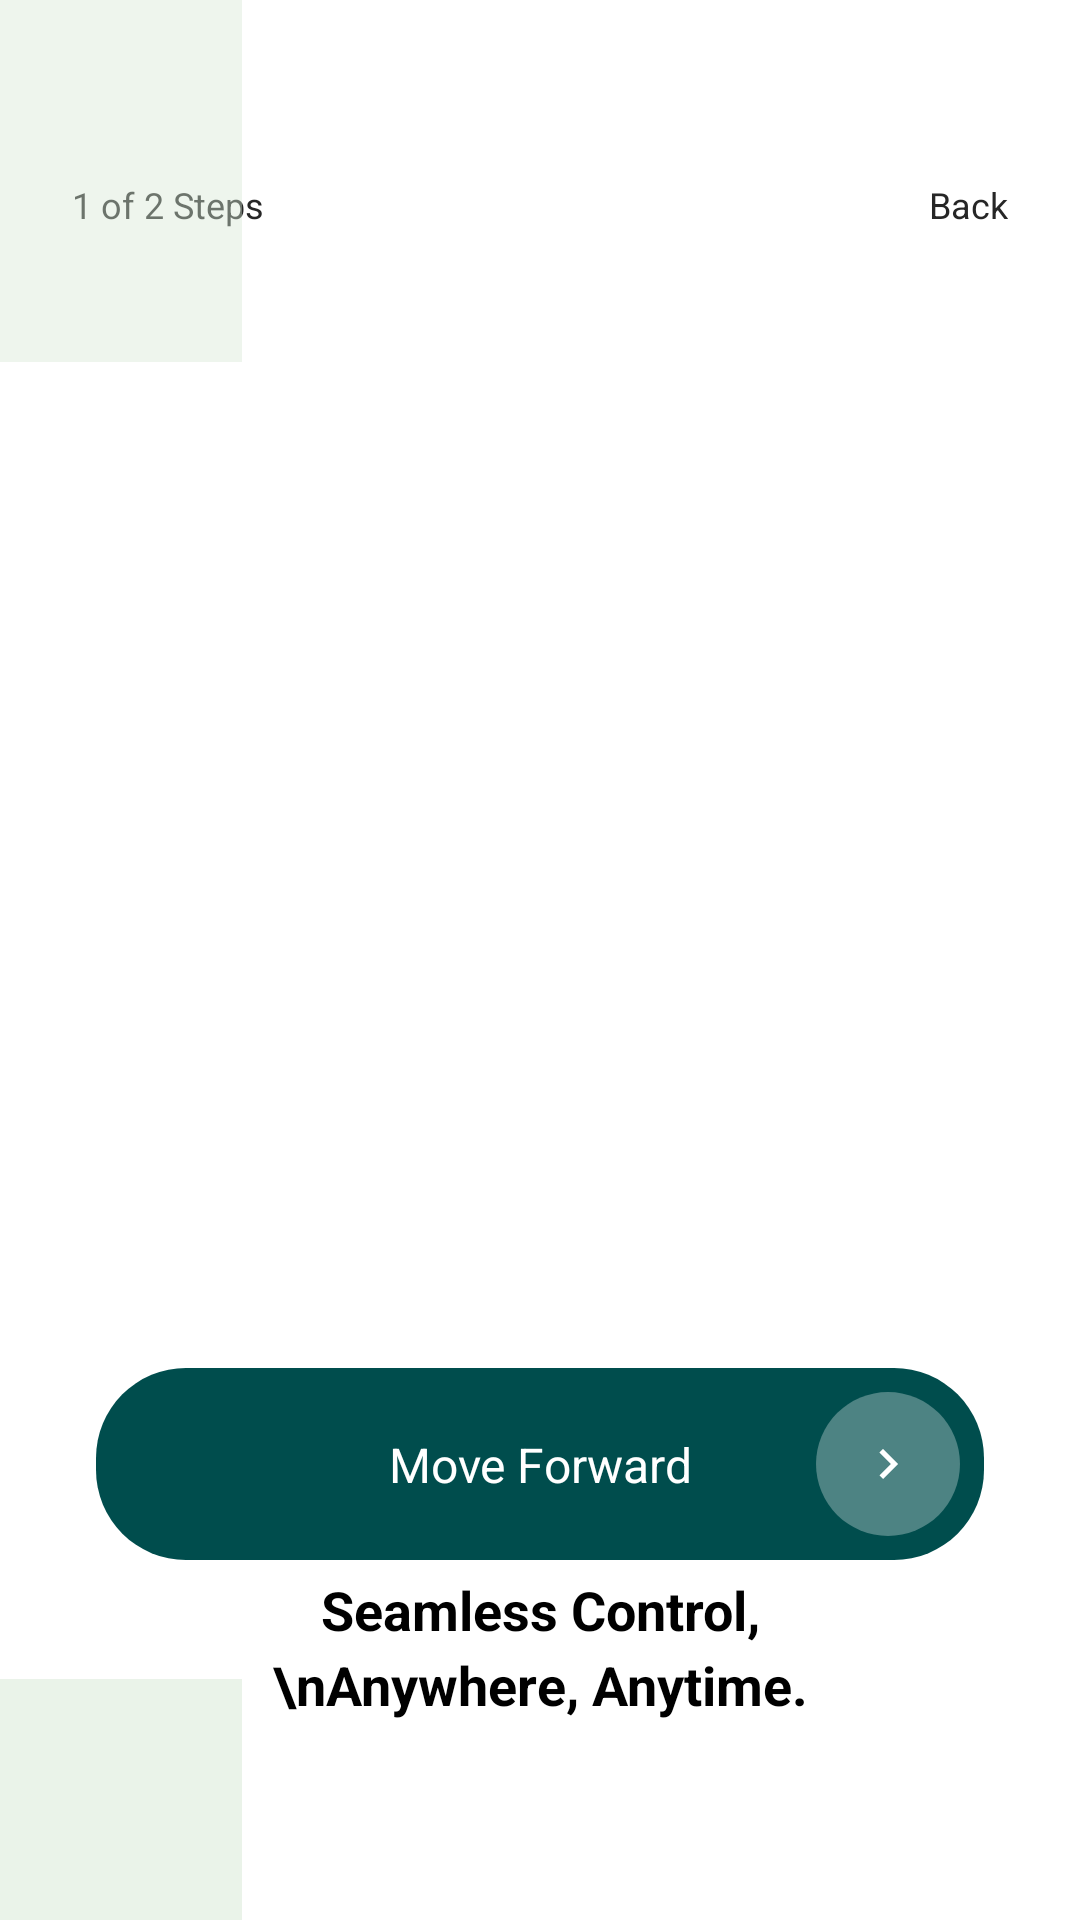

Named icons in this screenshot (1080 x 1920) and their bounding boxes, (x1, y1, x2, y2):
arrow forward: (879, 1449, 898, 1479)
